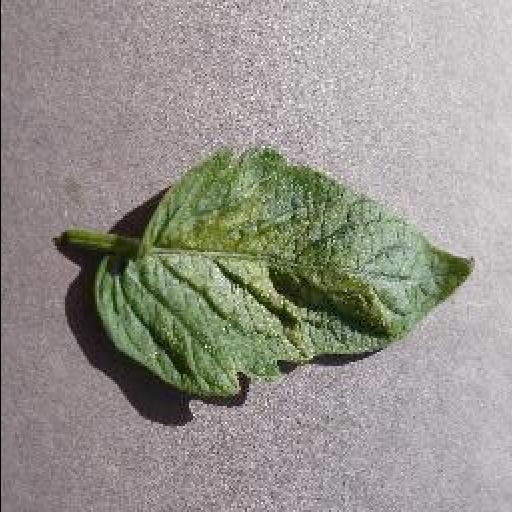disease_tomato: (91, 148, 477, 398)
